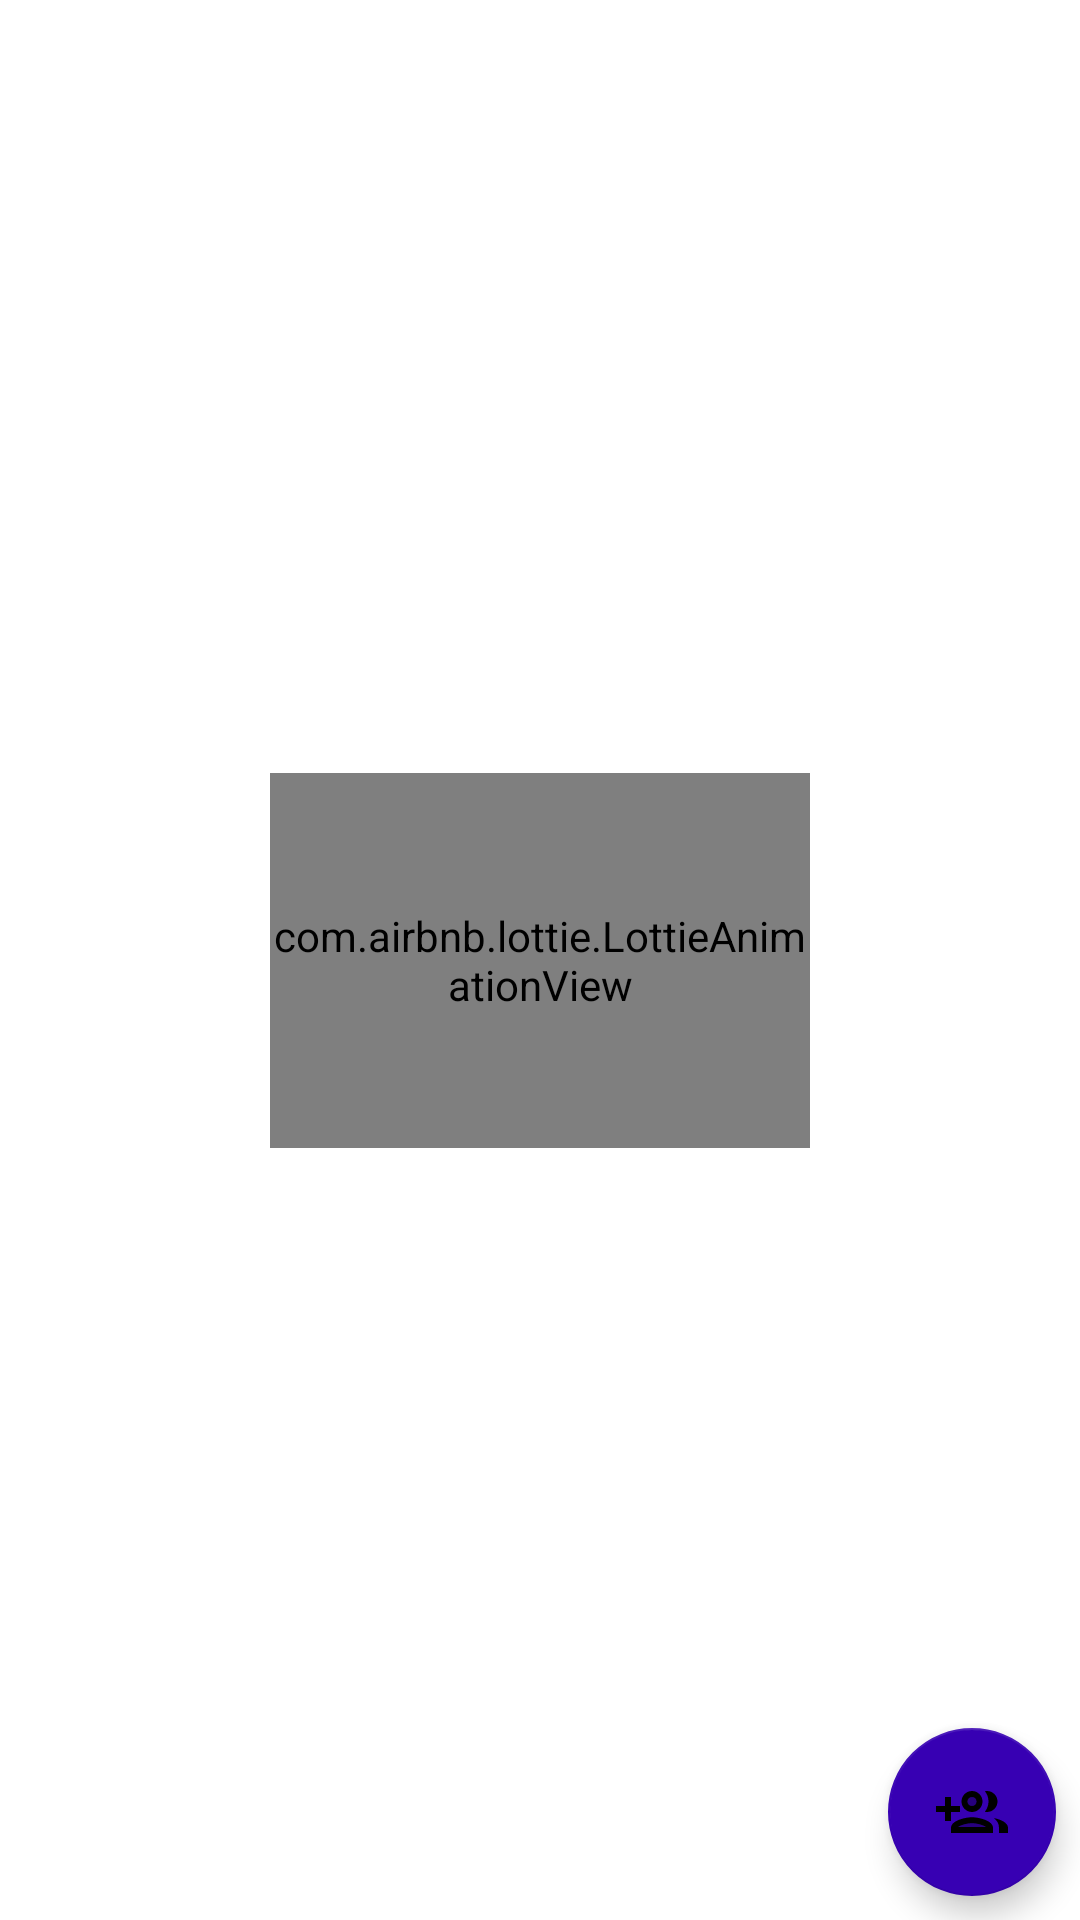

Icon bounding boxes for this 1080×1920 phone screenshot, format Rect(x1, y1, x2, y2):
Add a Group: Rect(888, 1728, 1056, 1896)
